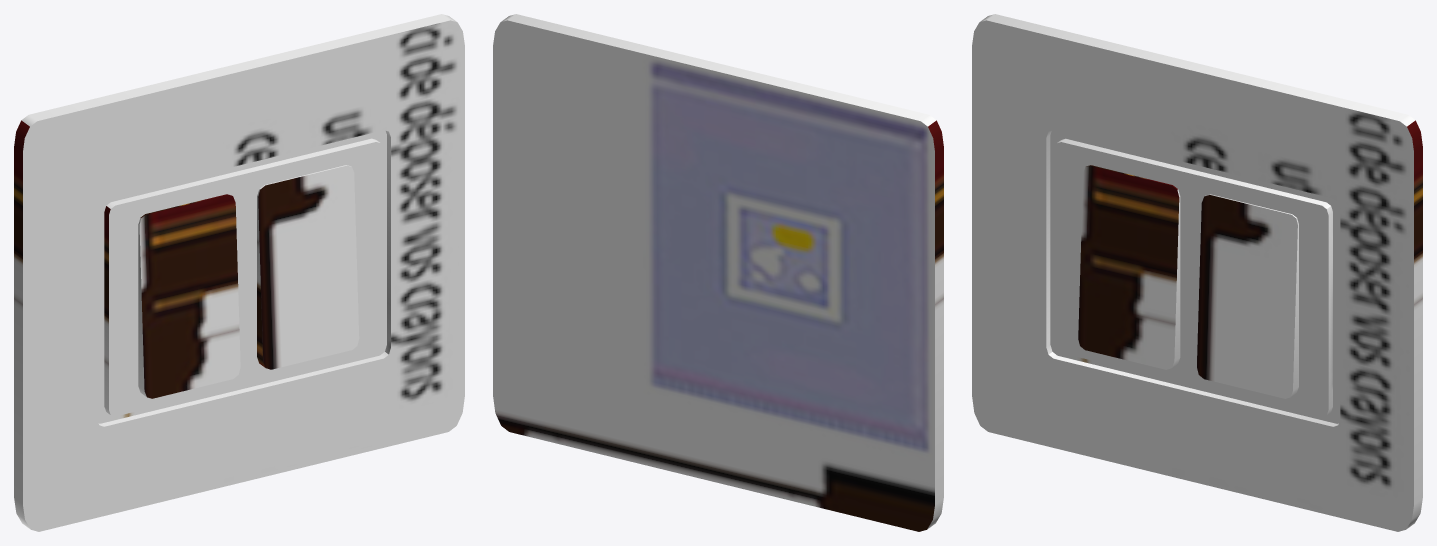
File: Switch Reception white.fbx
3 renders of one model, left to right at view 1: azimuth 30°, elevation 25°; view 2: azimuth 150°, elevation 25°; view 3: azimuth 330°, elevation 25°, orthographic.
Visible parts, largest first — view 1: Switch Reception white; view 2: Switch Reception white; view 3: Switch Reception white.
Part boxes in pixels (x1,y1,x2,y2): Switch Reception white: (14, 14, 464, 531); Switch Reception white: (493, 14, 943, 531); Switch Reception white: (972, 14, 1422, 531).
Bounding box in the file's own units: 0.038 × 0.0338 × 0.00252.
